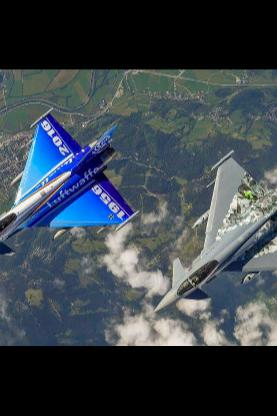E2: (0, 107, 139, 268), (150, 150, 275, 314)
